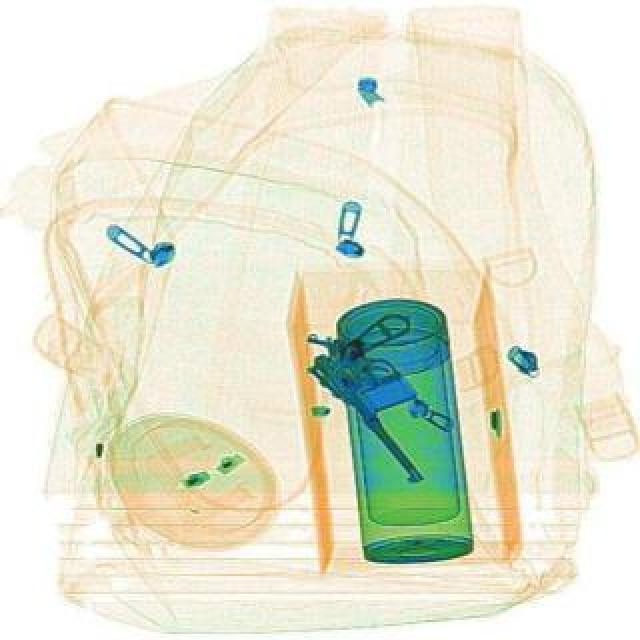gun: (302, 298, 504, 490)
